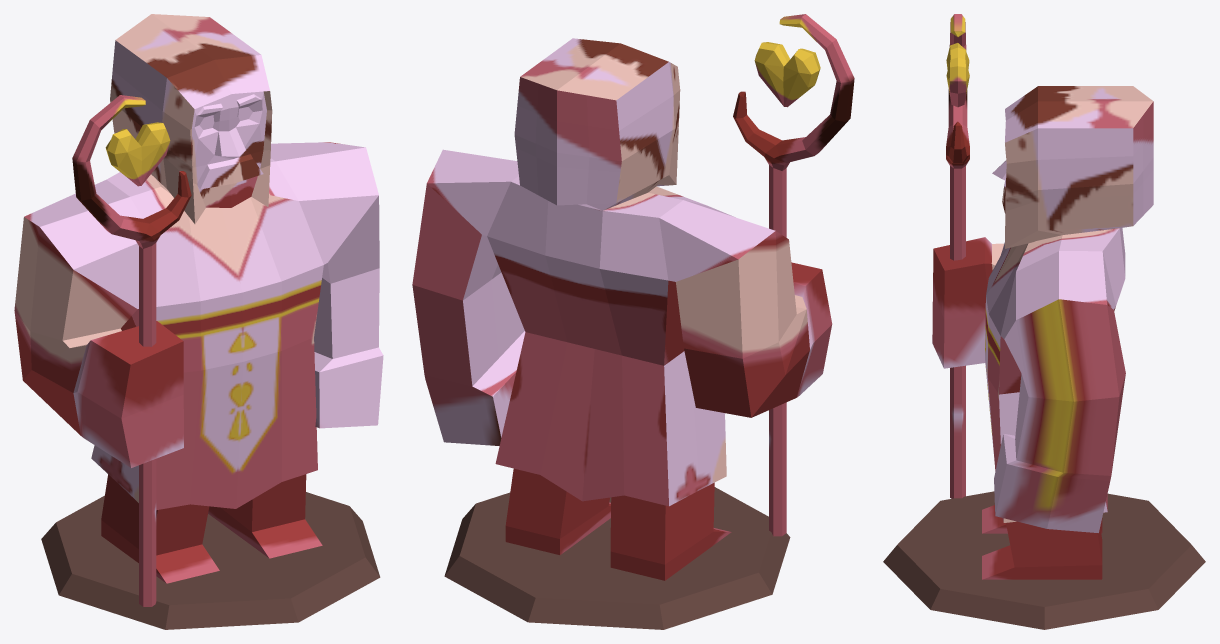
Rendered from Asset_Pawn_Swag.fbx.
The picture shows the model from 3 angles, left to right: view 1: azimuth 30°, elevation 25°; view 2: azimuth 150°, elevation 25°; view 3: azimuth 270°, elevation 25°; orthographic projection. The views are drawn at different scales.
Parts seen in each view (by area): view 1: STP_body, Swag_Stand, staff, STP_heart; view 2: STP_body, Swag_Stand, staff, STP_heart; view 3: STP_body, Swag_Stand, staff, STP_heart.
Part boxes in pixels (x1,y1,x2,y2): STP_body: [14, 14, 383, 583]; Swag_Stand: [41, 492, 380, 629]; staff: [72, 95, 191, 606]; STP_heart: [105, 122, 170, 186]; STP_body: [412, 38, 832, 580]; Swag_Stand: [444, 487, 790, 629]; staff: [733, 14, 854, 536]; STP_heart: [754, 42, 820, 107]; STP_body: [932, 86, 1153, 579]; Swag_Stand: [883, 491, 1205, 629]; staff: [946, 14, 969, 498]; STP_heart: [946, 43, 969, 107].
Bounding box in the file's own units: 52.06 × 74.4 × 44.72.
